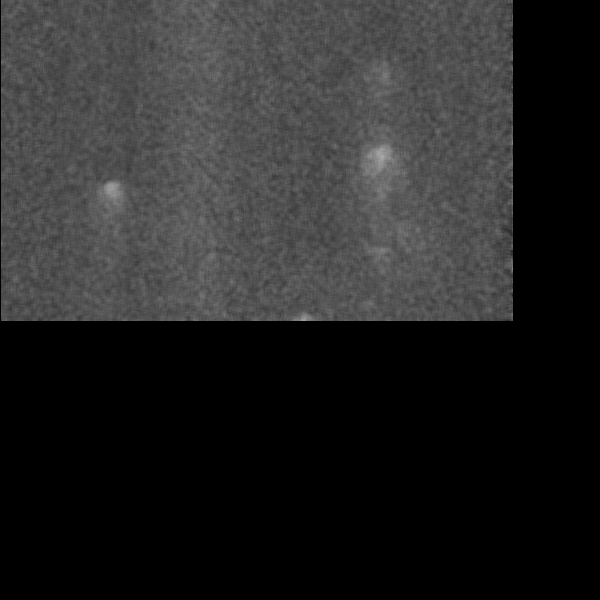spark: (355, 136, 409, 197), (94, 175, 129, 230), (381, 218, 412, 243), (374, 59, 395, 92), (362, 244, 399, 258)
